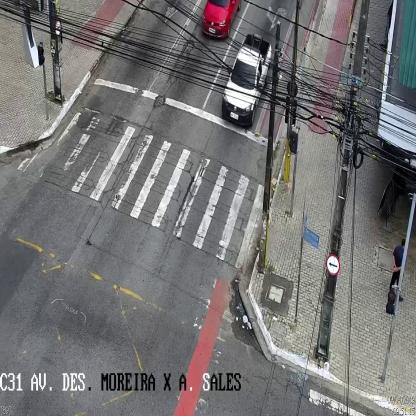car: (221, 35, 271, 128), (200, 1, 241, 39)
person: (388, 238, 404, 302)
